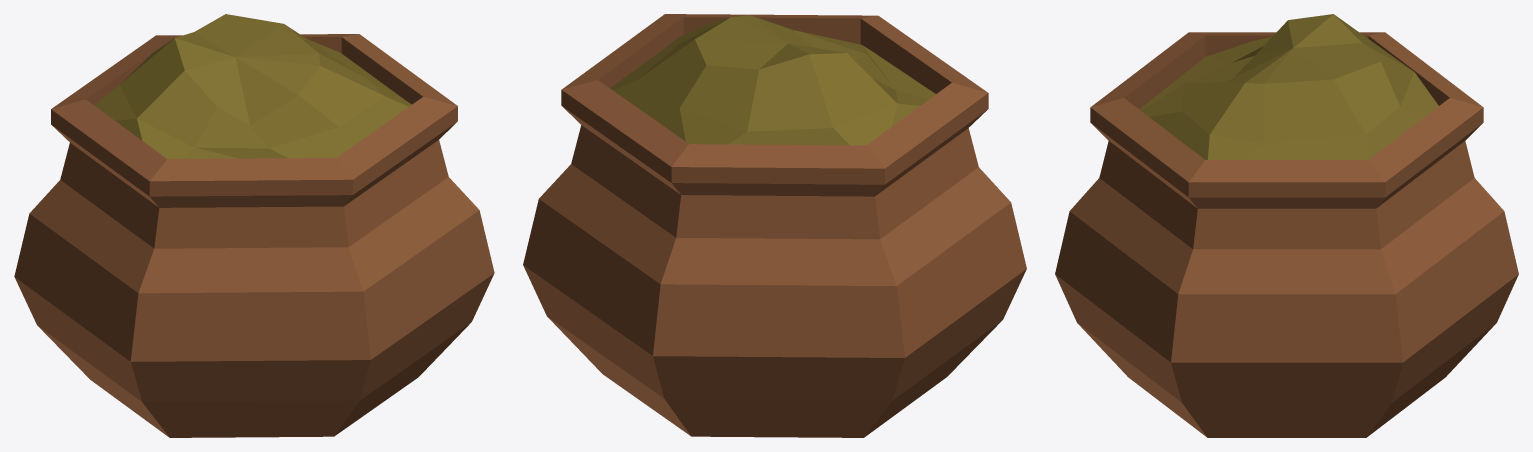
File: spice.fbx
The picture shows the model from 3 angles, left to right: view 1: azimuth 30°, elevation 25°; view 2: azimuth 150°, elevation 25°; view 3: azimuth 270°, elevation 25°; orthographic projection. The views are drawn at different scales.
Parts seen in each view (by area): view 1: spice; view 2: spice; view 3: spice.
Part boxes in pixels (box(x1,y1,x2,y2)): spice: box(14, 14, 494, 437); spice: box(523, 14, 1026, 437); spice: box(1055, 14, 1518, 437).
Size of the model in its own units: 85.79 by 75.91 by 94.99.
